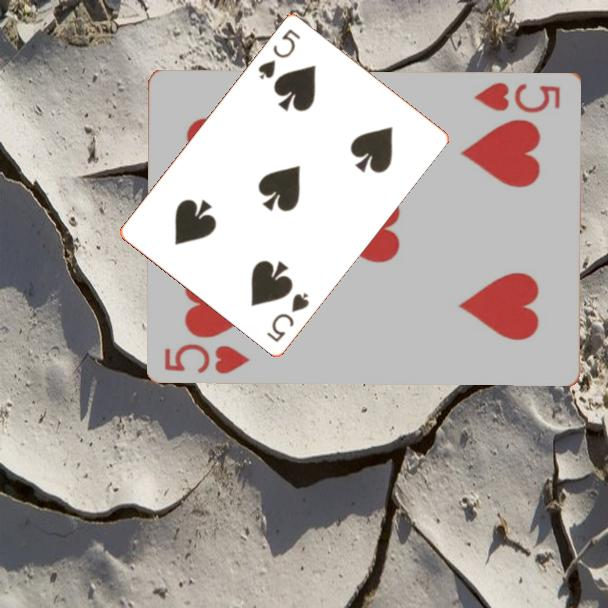h05: (471, 78, 564, 115), (161, 340, 253, 376)
s05: (254, 25, 303, 82), (263, 288, 312, 345)
